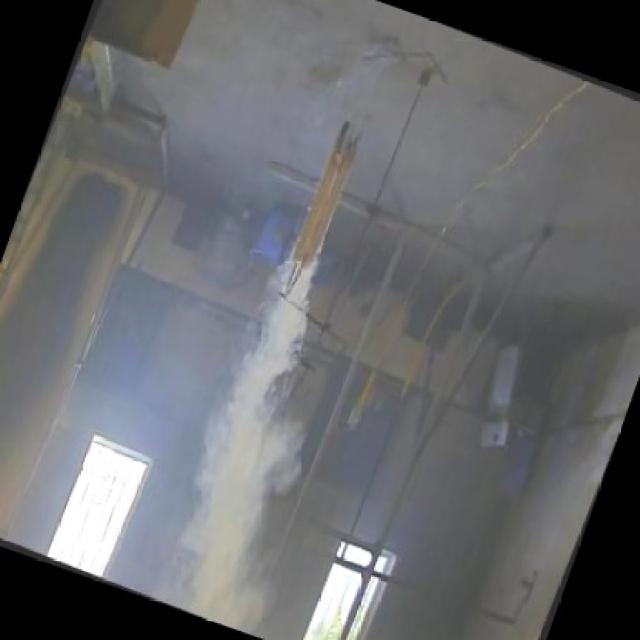smoke: (108, 135, 426, 636)
